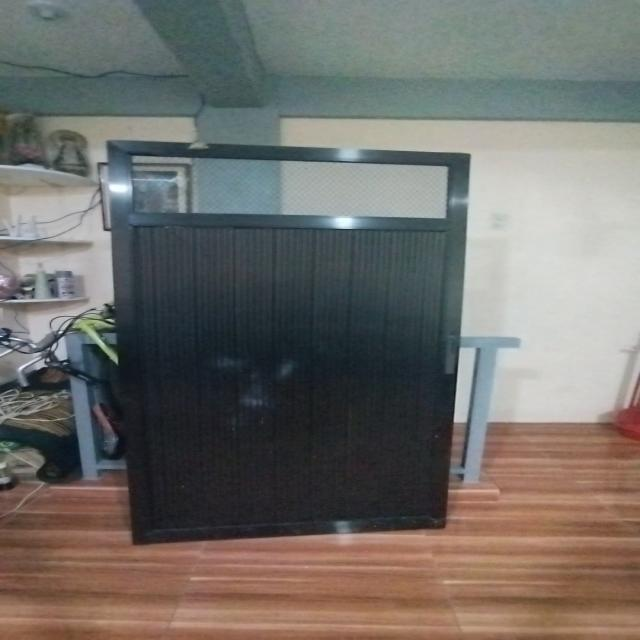door: (94, 135, 478, 544)
